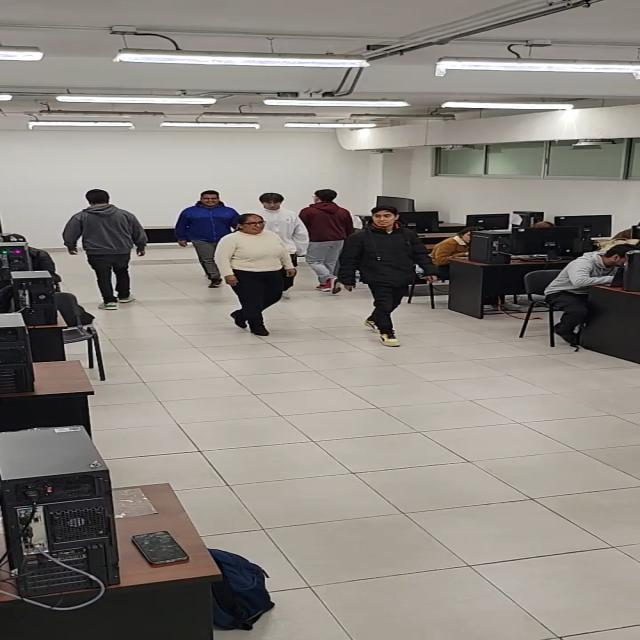Persona: (343, 203, 431, 347), (208, 213, 297, 335), (64, 186, 148, 310), (173, 188, 234, 283), (307, 184, 352, 292), (258, 191, 307, 268)
